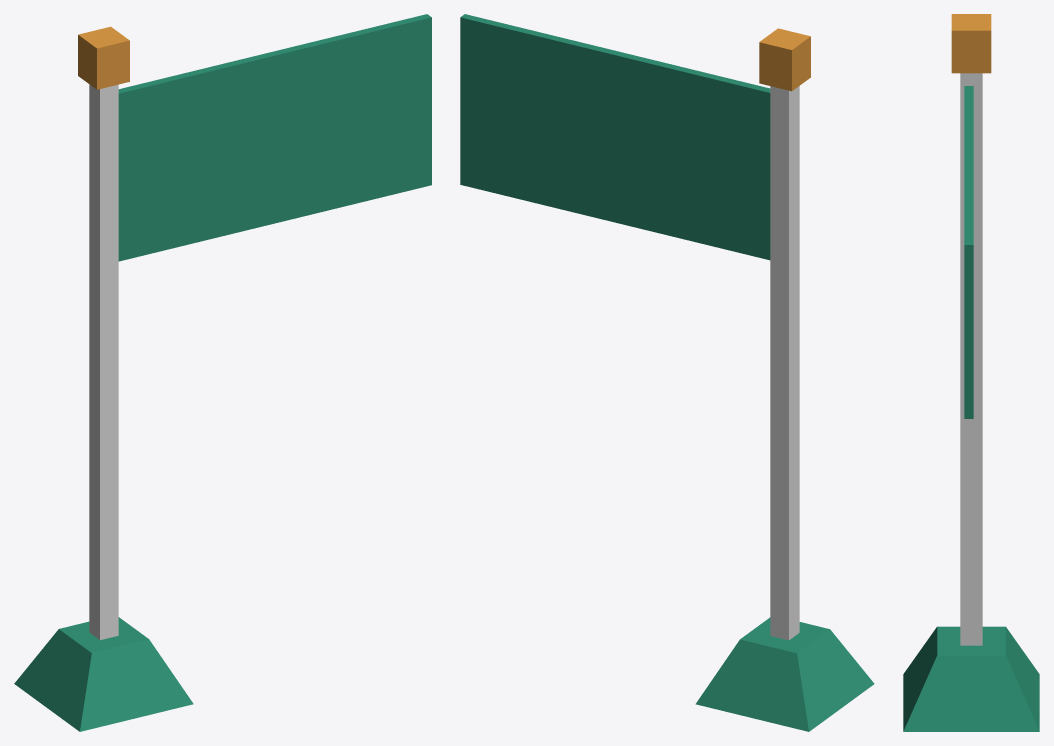
File: flag.fbx
The picture shows the model from 3 angles, left to right: view 1: azimuth 30°, elevation 25°; view 2: azimuth 150°, elevation 25°; view 3: azimuth 270°, elevation 25°; orthographic projection. The views are drawn at different scales.
Visible parts, largest first — view 1: FLAG, POLE; view 2: FLAG, POLE; view 3: POLE, FLAG.
Part boxes in pixels (box(x1,y1,x2,y2)): FLAG: box(118, 14, 431, 261); POLE: box(14, 26, 193, 731); FLAG: box(460, 14, 770, 260); POLE: box(695, 28, 874, 731); POLE: box(903, 14, 1039, 731); FLAG: box(964, 86, 973, 418).
Size of the model in its own units: 5.7 by 9.37 by 1.7.
